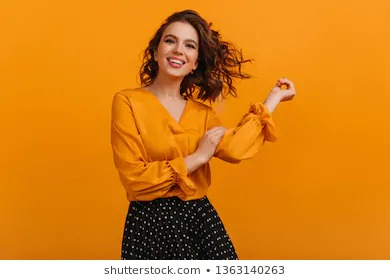C_blouse: (95, 75, 282, 214)
